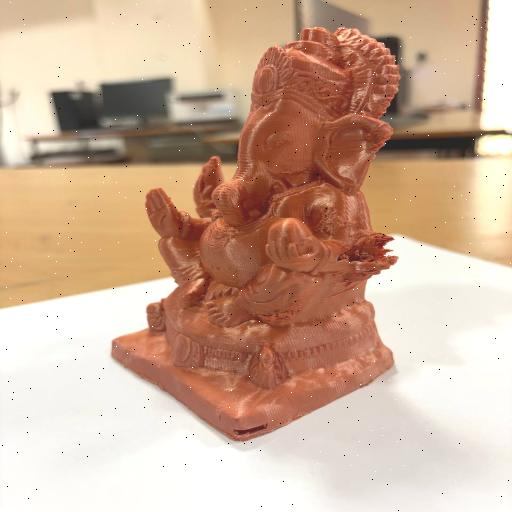cracks: (336, 224, 398, 278), (226, 422, 270, 440)
